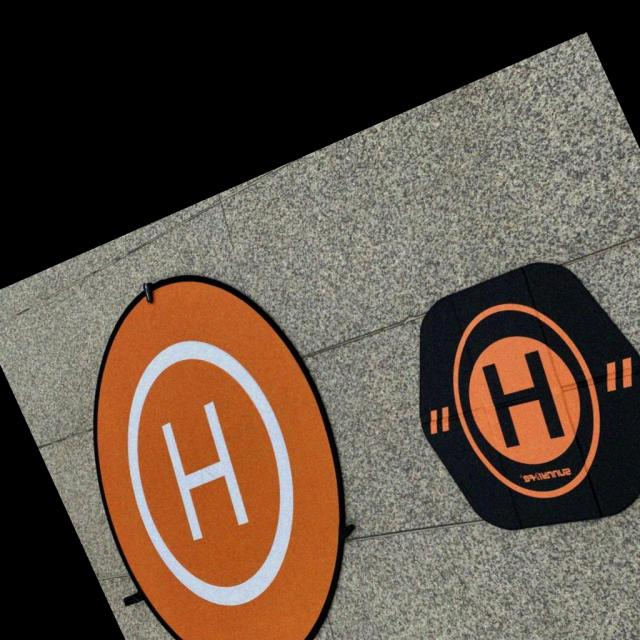helipad: (120, 334, 298, 612), (450, 298, 606, 502)
